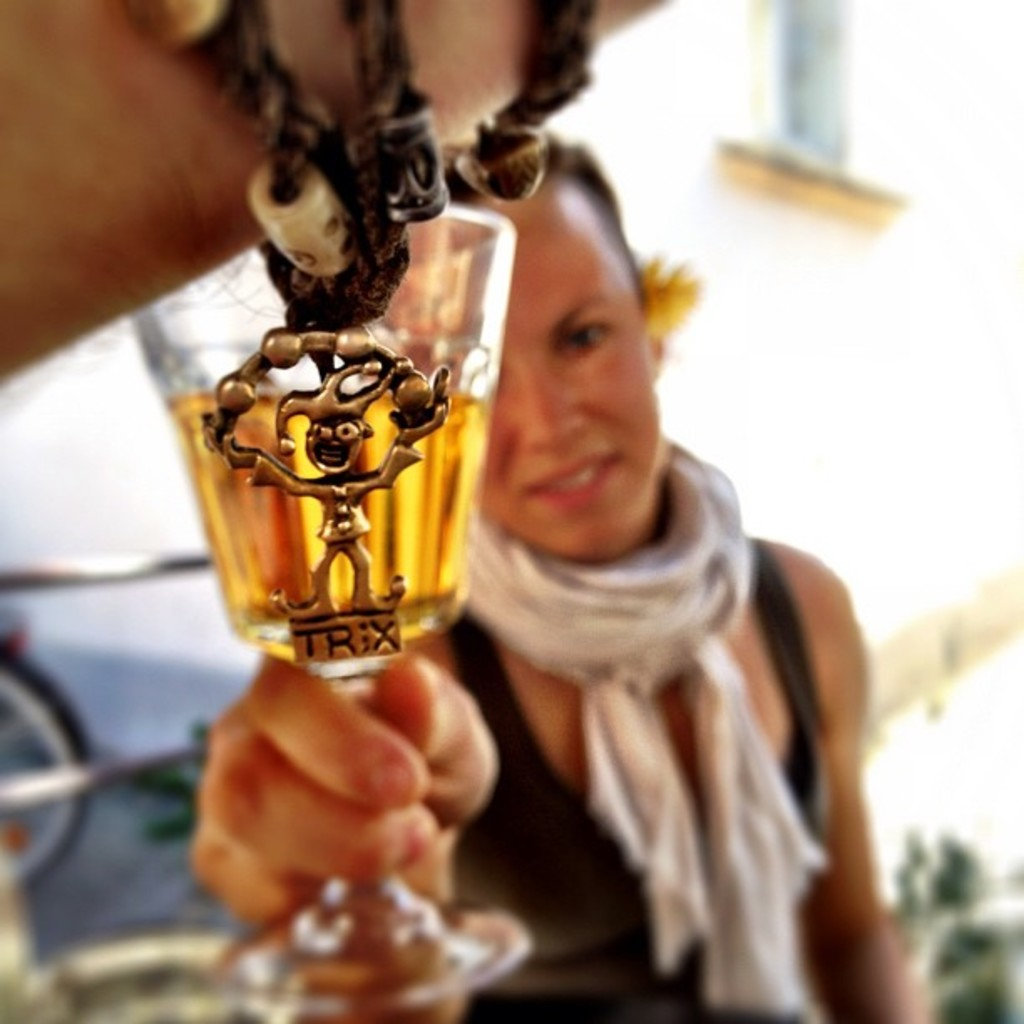Beer: (170, 386, 480, 675)
